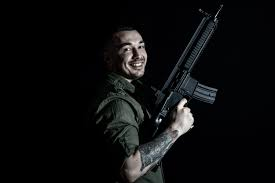rifle: (164, 5, 231, 112)
